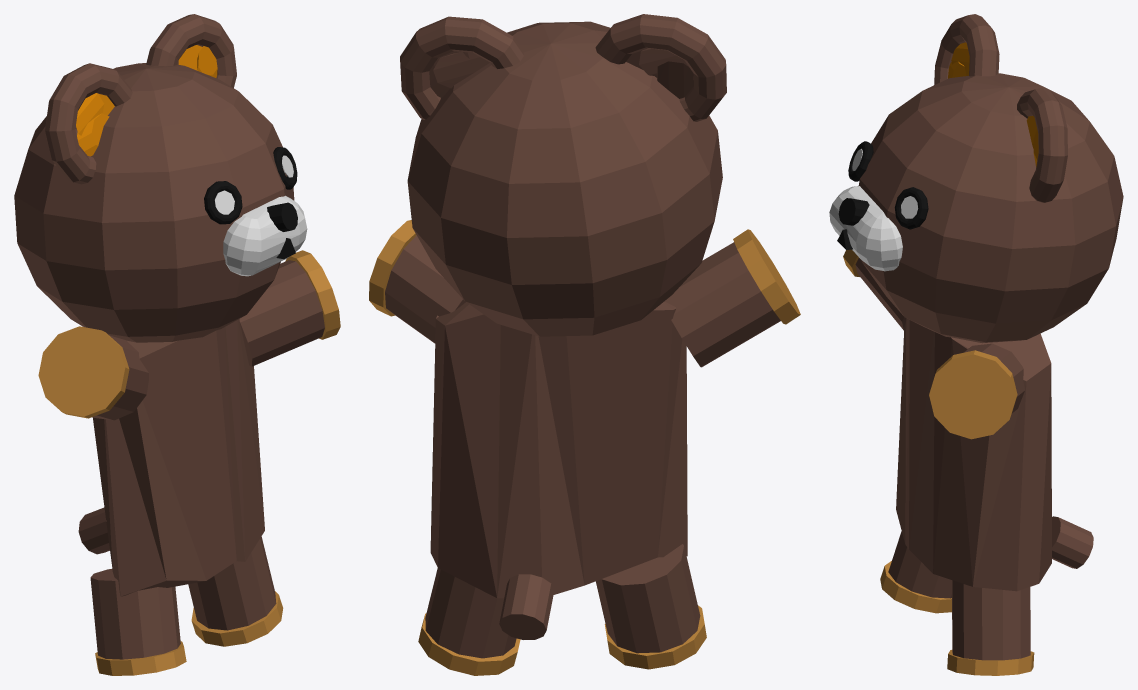
3 views of the same model, side by side, from view 1: azimuth 30°, elevation 25°; view 2: azimuth 150°, elevation 25°; view 3: azimuth 270°, elevation 25° (orthographic). The views are drawn at different scales.
Parts seen in each view (by area): view 1: node_MeshObject1360506304-PolyPaper21; view 2: node_MeshObject1360506304-PolyPaper21; view 3: node_MeshObject1360506304-PolyPaper21.
Boxes of the visible parts, <box> form: node_MeshObject1360506304-PolyPaper21: <box>14,14,340,675</box>; node_MeshObject1360506304-PolyPaper21: <box>369,14,800,675</box>; node_MeshObject1360506304-PolyPaper21: <box>829,14,1123,675</box>.
Bounding box in the file's own units: 2.09 × 3.75 × 1.72.
